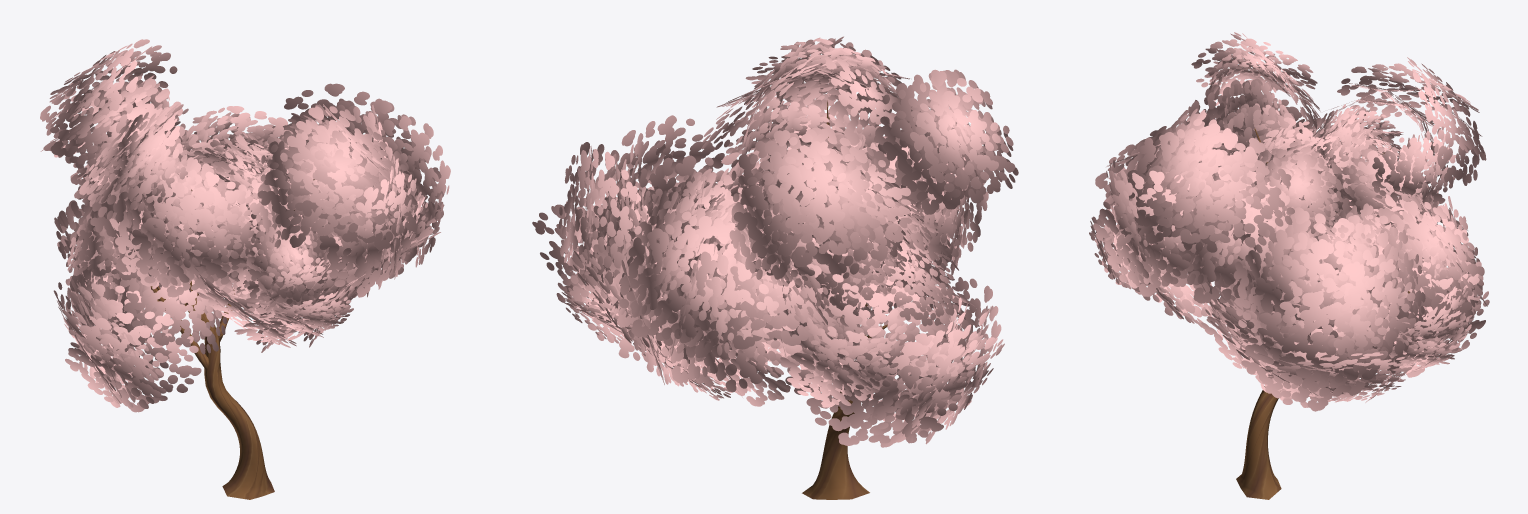
File: tree02.glb
3 views of the same model, side by side, from view 1: azimuth 30°, elevation 25°; view 2: azimuth 150°, elevation 25°; view 3: azimuth 270°, elevation 25° (orthographic). The views are drawn at different scales.
Visible parts, largest first — view 1: Tree02_LOD01; view 2: Tree02_LOD01; view 3: Tree02_LOD01.
Part boxes in pixels (bbox=[...]): Tree02_LOD01: bbox=[40, 39, 450, 499]; Tree02_LOD01: bbox=[532, 36, 1018, 499]; Tree02_LOD01: bbox=[1089, 32, 1489, 499].
Size of what is drawn, in the model's own units: 7.12 by 6.6 by 6.23.
Materials: 2 (2 with a texture image).
